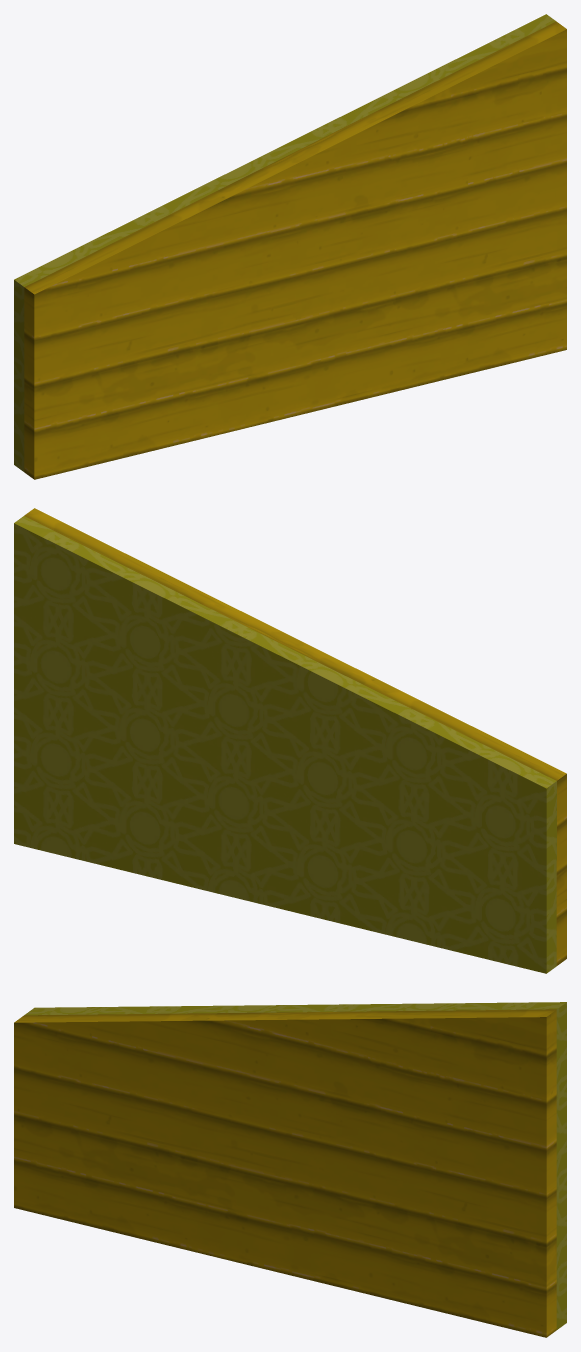
The model's file is SM_building_wall_27.glb.
3 renders of one model, top to bottom at view 1: azimuth 30°, elevation 25°; view 2: azimuth 150°, elevation 25°; view 3: azimuth 330°, elevation 25°, orthographic.
Parts seen in each view (by area): view 1: SM_building_wall_27; view 2: SM_building_wall_27; view 3: SM_building_wall_27.
Part boxes in pixels (x1,y1,x2,y2): SM_building_wall_27: (14, 14, 566, 479); SM_building_wall_27: (14, 508, 566, 973); SM_building_wall_27: (14, 1002, 566, 1337).
Size of the model in its own units: 3 by 1.73 by 0.2.
2 materials, 2 textured.
